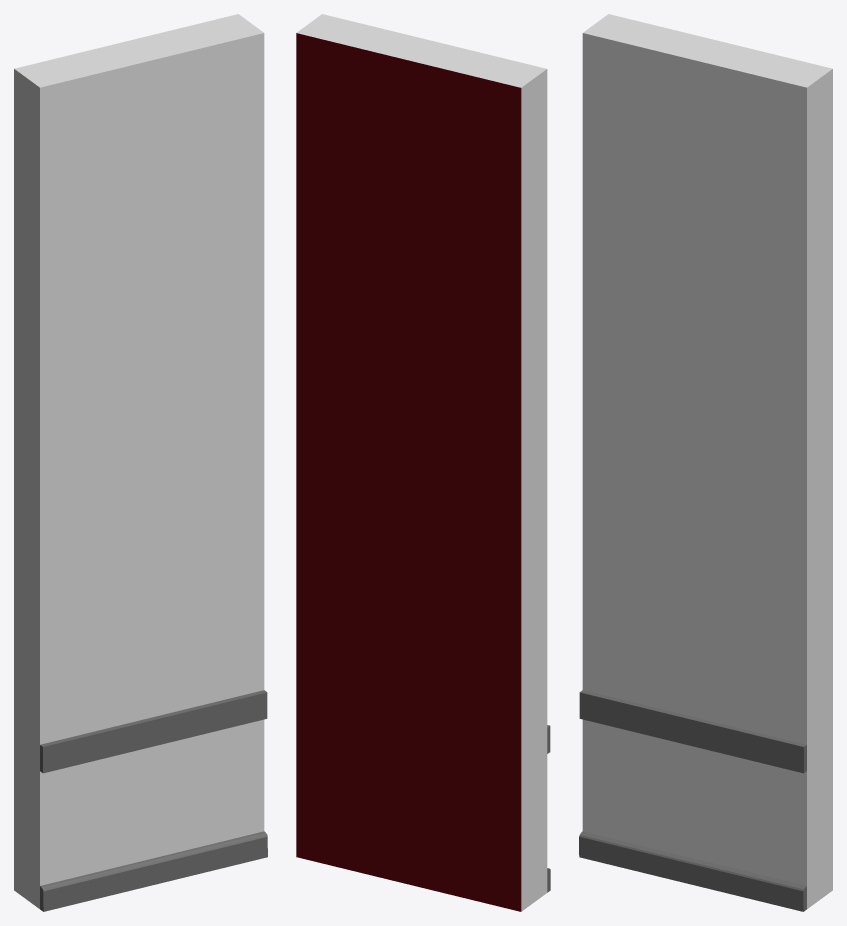
File: WandAussen.glb
The picture shows the model from 3 angles, left to right: view 1: azimuth 30°, elevation 25°; view 2: azimuth 150°, elevation 25°; view 3: azimuth 330°, elevation 25°; orthographic projection.
Visible parts, largest first — view 1: Wand 1 * 4; view 2: Wand 1 * 4; view 3: Wand 1 * 4.
Part boxes in pixels (box(x1,y1,x2,y2)): Wand 1 * 4: box(14, 14, 267, 911); Wand 1 * 4: box(296, 14, 550, 911); Wand 1 * 4: box(579, 14, 832, 911).
Size of the model in its own units: 1 by 3.5 by 0.2269.
